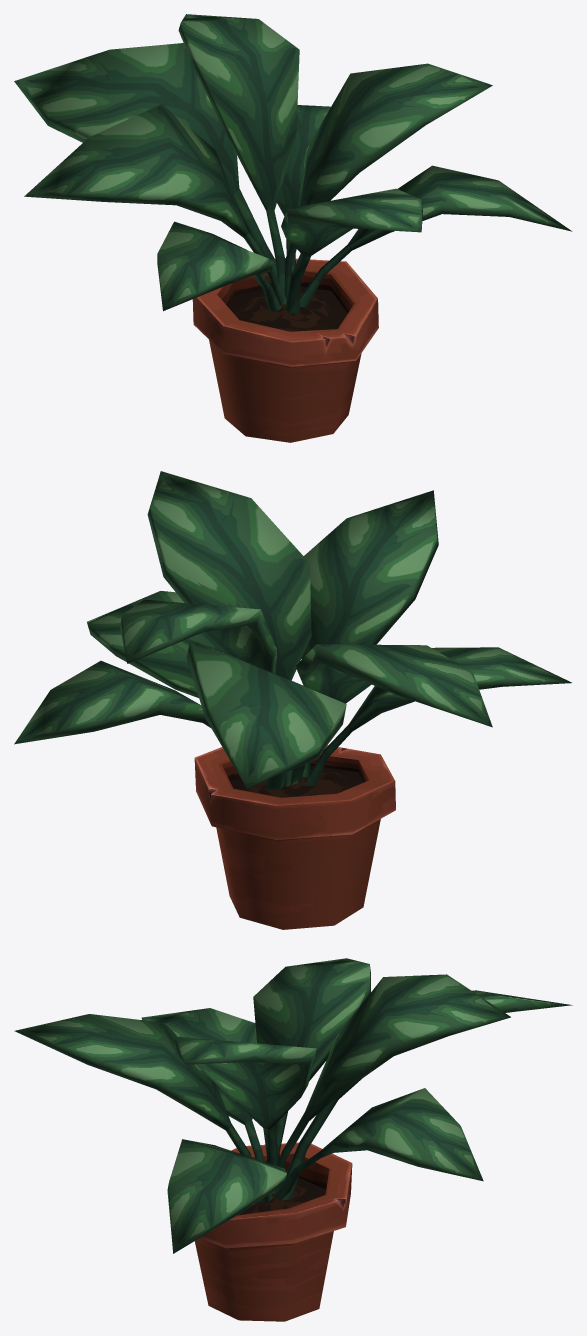
File: SM_PROP_plant_interior_04.fbx
The picture shows the model from 3 angles, top to bottom: view 1: azimuth 30°, elevation 25°; view 2: azimuth 150°, elevation 25°; view 3: azimuth 270°, elevation 25°; orthographic projection. The views are drawn at different scales.
Parts seen in each view (by area): view 1: SM_PROP_plant_interior_04; view 2: SM_PROP_plant_interior_04; view 3: SM_PROP_plant_interior_04.
Part boxes in pixels (bbox=[...]): SM_PROP_plant_interior_04: bbox=[14, 14, 572, 442]; SM_PROP_plant_interior_04: bbox=[14, 471, 571, 929]; SM_PROP_plant_interior_04: bbox=[14, 958, 572, 1321].
Size of the model in its own units: 132 by 90.44 by 144.
